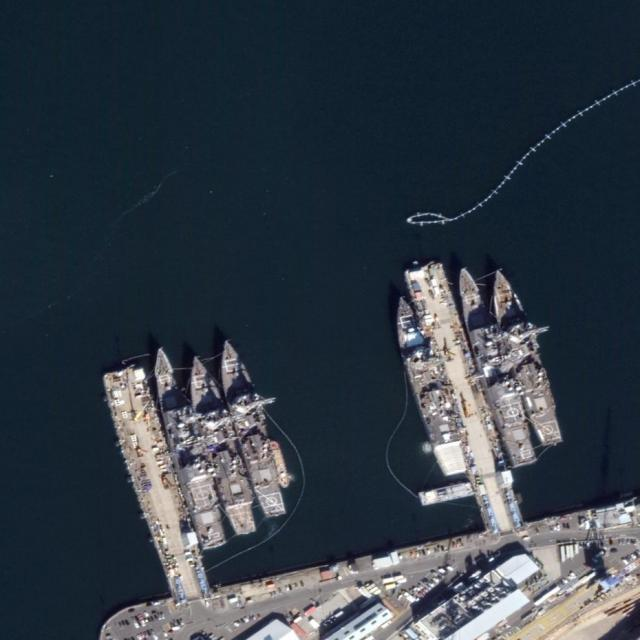Cruiser: (451, 264, 540, 469), (148, 345, 225, 551)
Destroyer: (180, 350, 262, 537), (386, 292, 467, 480), (486, 264, 566, 450), (213, 337, 287, 520)
Dock: (401, 260, 523, 534), (102, 367, 211, 602)
